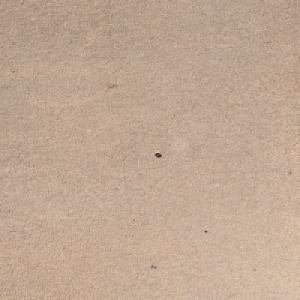Nut: (154, 152, 161, 156)
